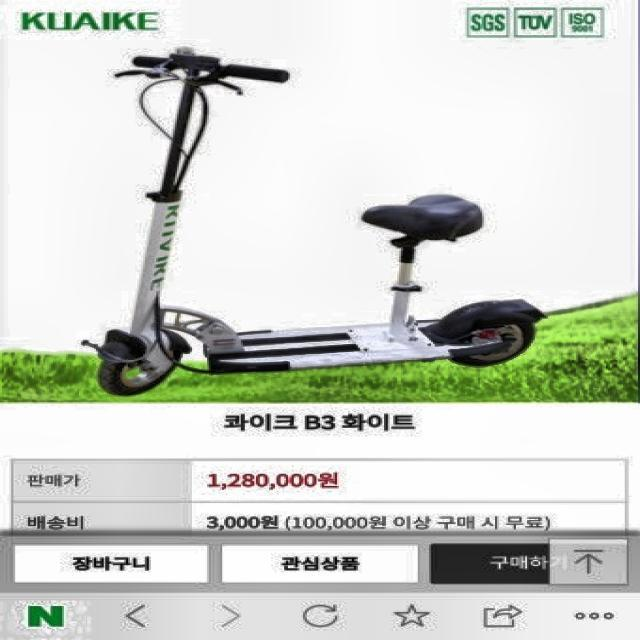bike: (91, 50, 547, 392)
